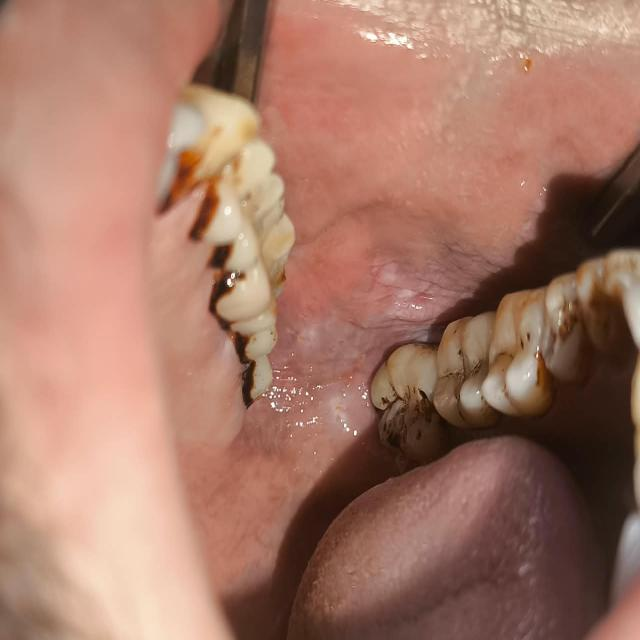leukoplakia-detection: (224, 218, 510, 450)
processing_area: (151, 0, 640, 639)
